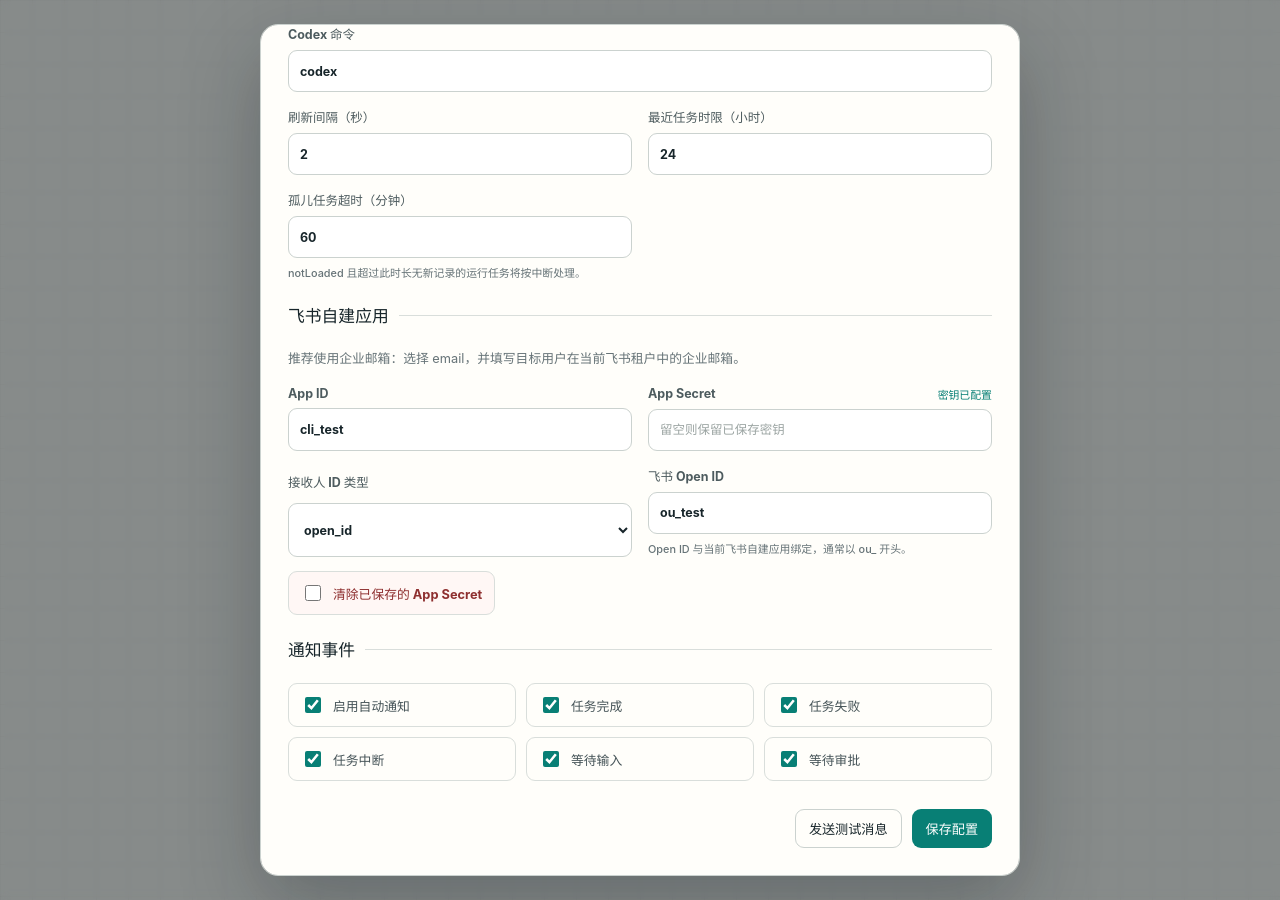
设置面板 › 使用自定义确认弹窗发送测试消息
(page scrolled)
Click the button "发送测试消息": [848, 829] box [795,809,902,848]
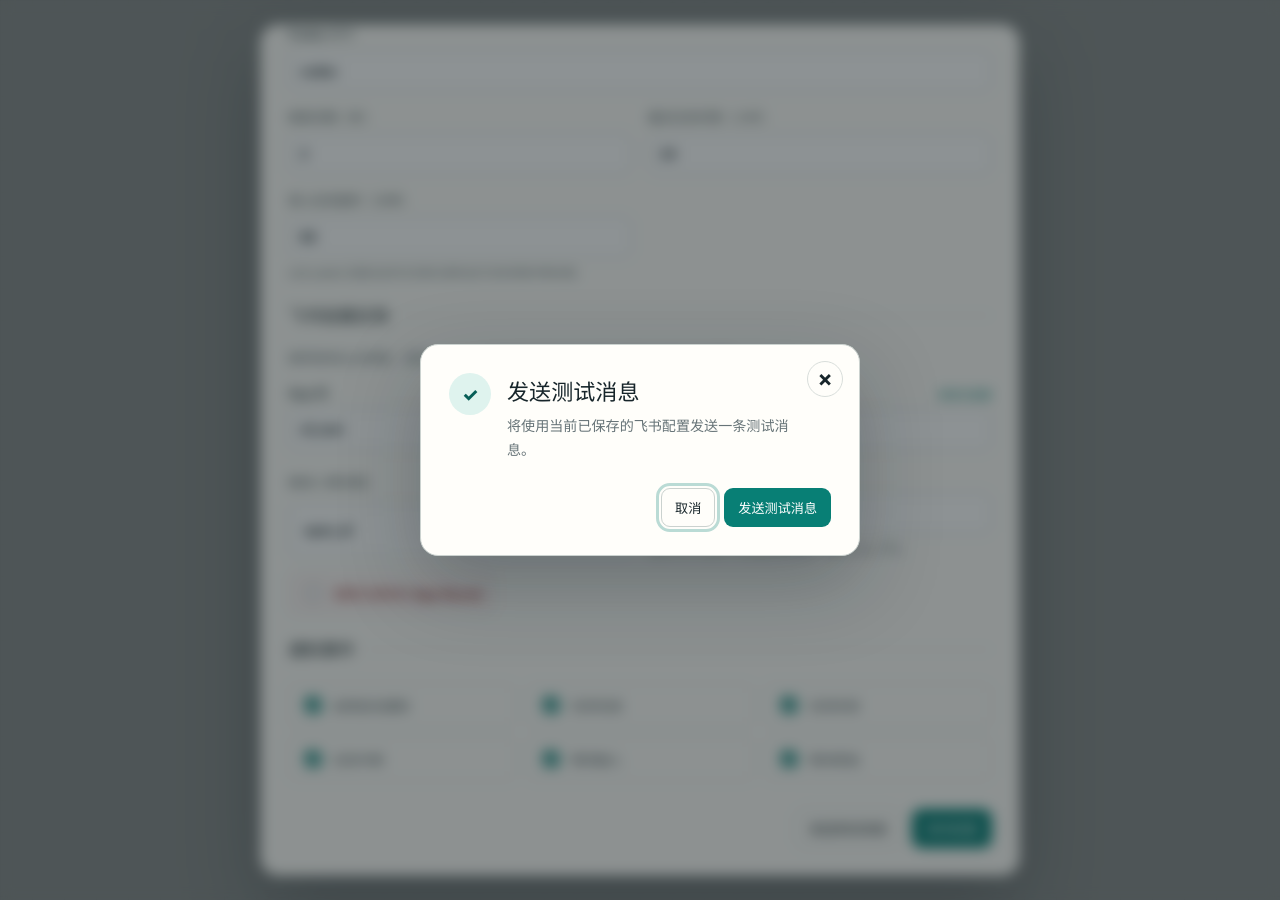
Expected: the dialog shows "发送测试消息", [507,380,640,405]
Click the button "取消": [688, 507] box [661,488,715,527]
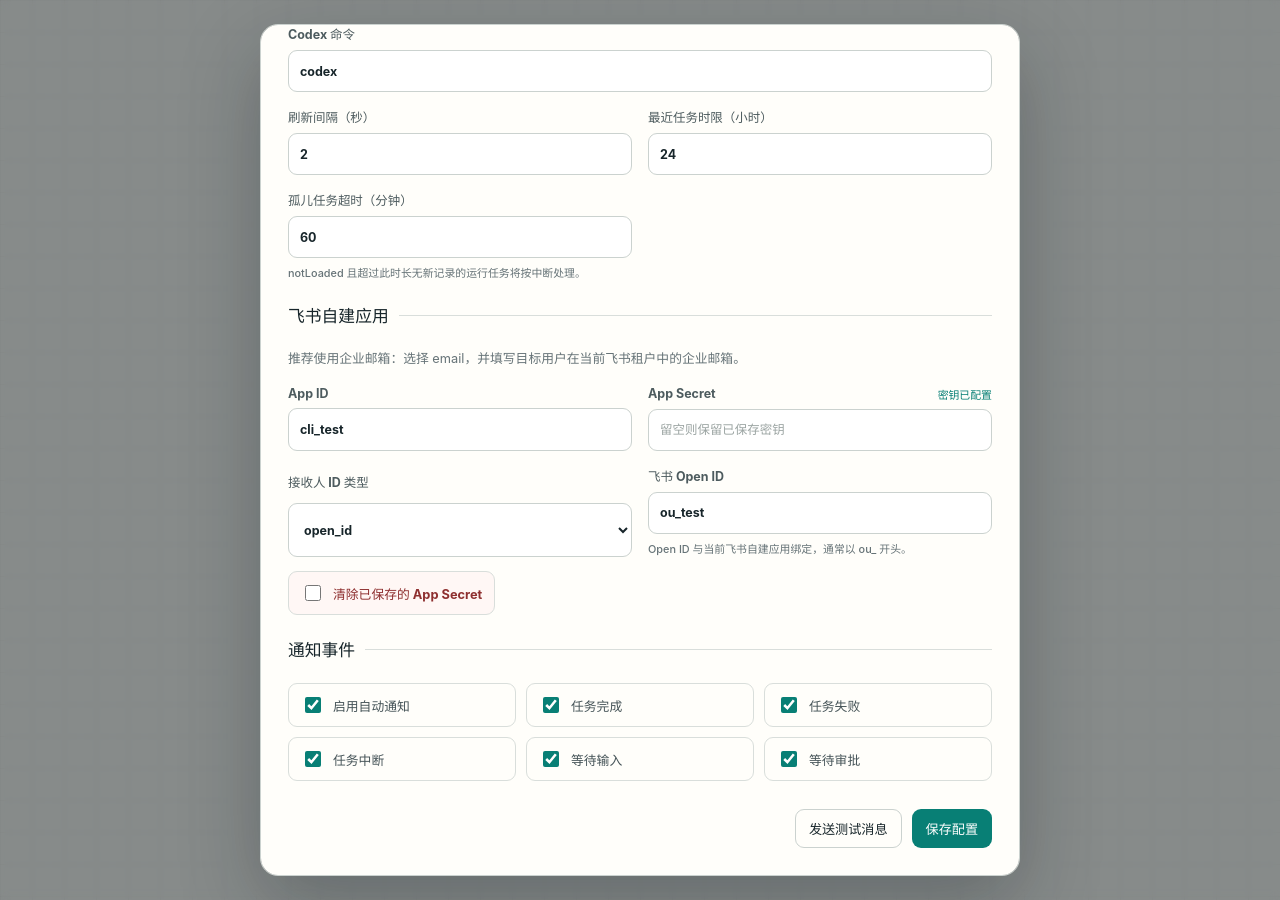
Click the button "发送测试消息": [848, 829] box [795,809,902,848]
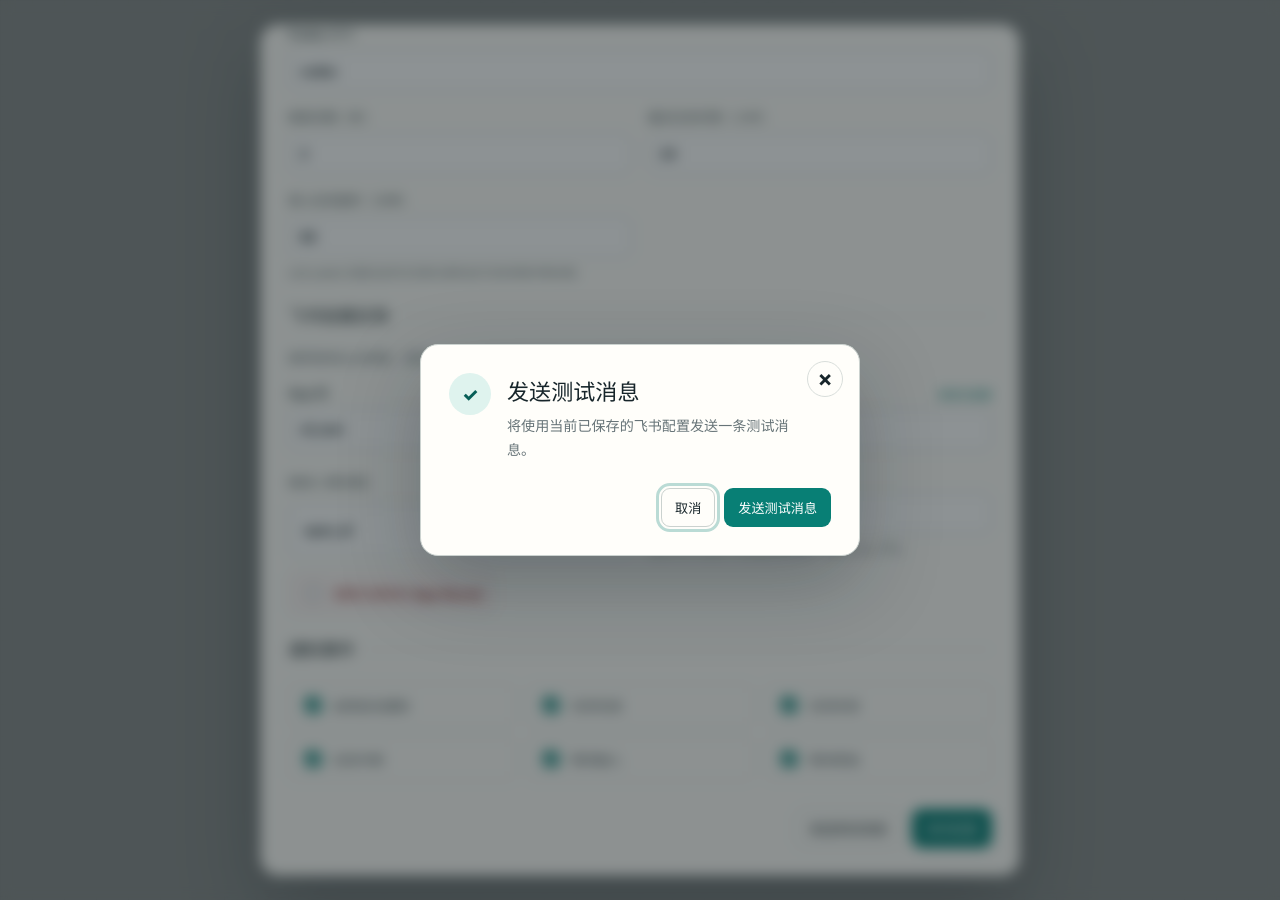
Click the button "发送测试消息": [778, 507] box [724,488,831,527]
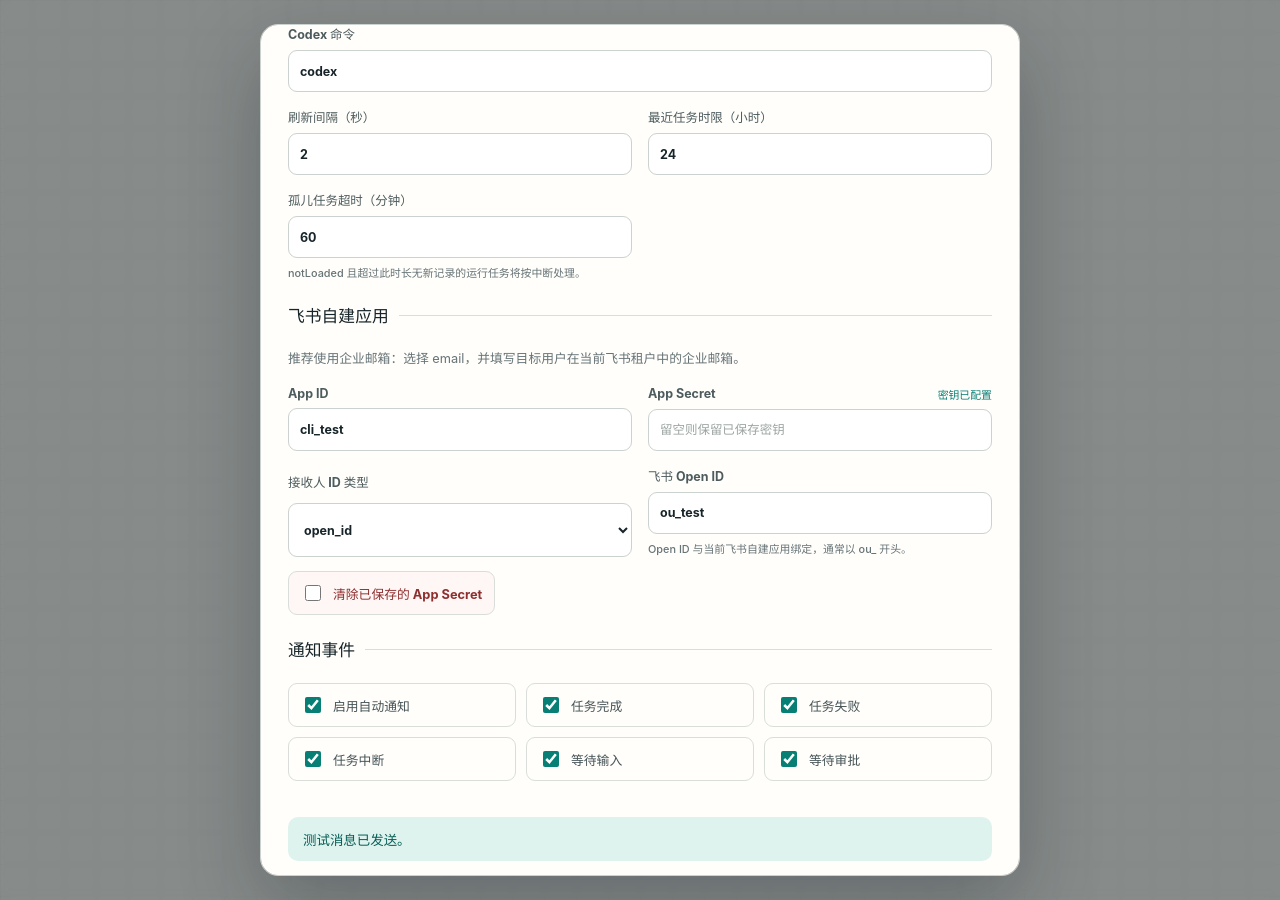
Expected: the text "测试消息已发送" is shown, [303,832,410,848]
